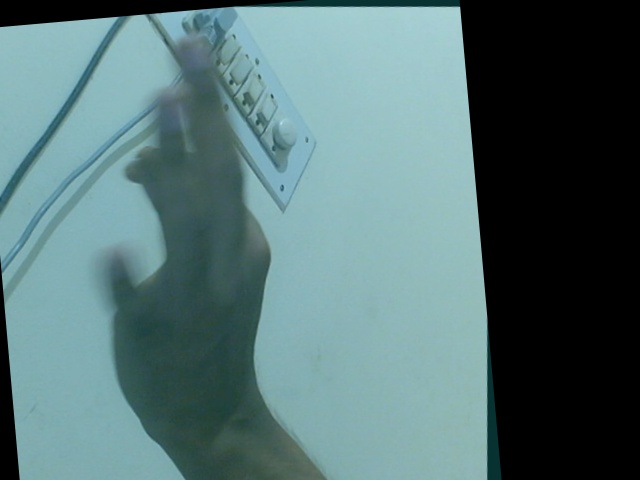hand: (86, 32, 287, 454)
